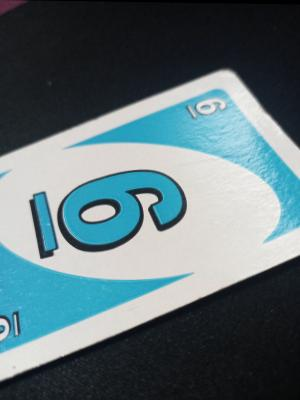blue: (2, 104, 288, 313)
num_6: (180, 92, 246, 129)
